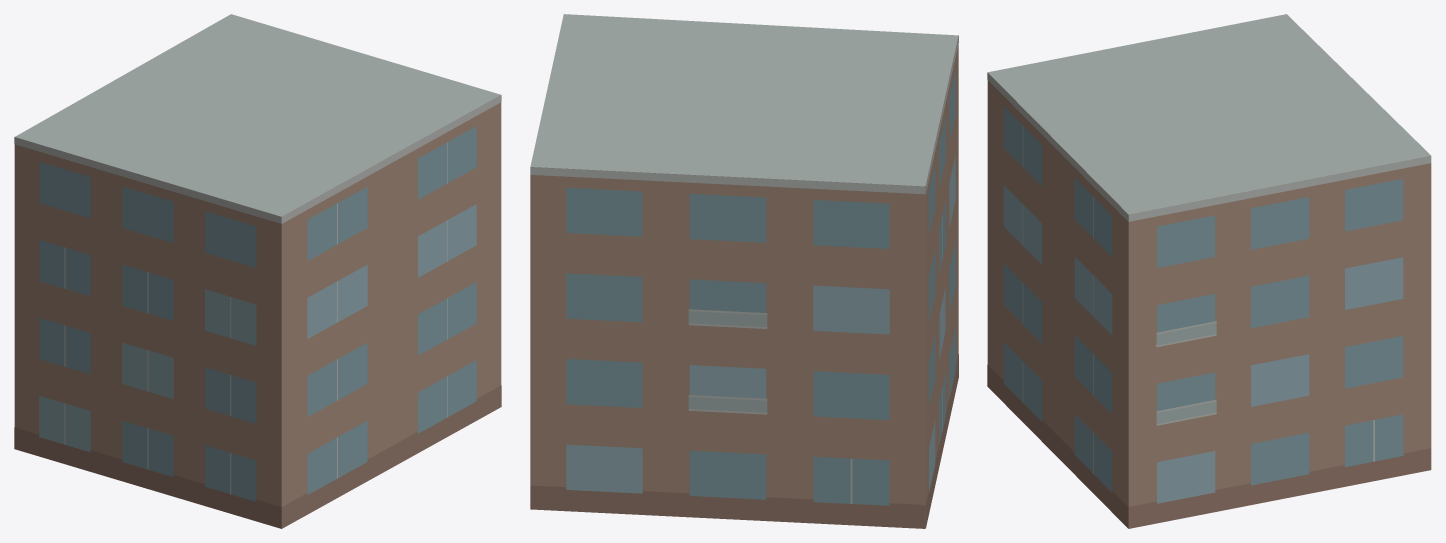
File: survey-upis-32941404.glb
The picture shows the model from 3 angles, left to right: view 1: azimuth 30°, elevation 25°; view 2: azimuth 150°, elevation 25°; view 3: azimuth 270°, elevation 25°; orthographic projection. The views are drawn at different scales.
Parts seen in each view (by area): view 1: survey-upis-32941404.tmp; view 2: survey-upis-32941404.tmp; view 3: survey-upis-32941404.tmp.
Part boxes in pixels (<box>): survey-upis-32941404.tmp: <box>14,14,501,528</box>; survey-upis-32941404.tmp: <box>530,14,958,528</box>; survey-upis-32941404.tmp: <box>987,14,1431,528</box>.
Size of the model in its own units: 14.46 by 10.55 by 13.52.
